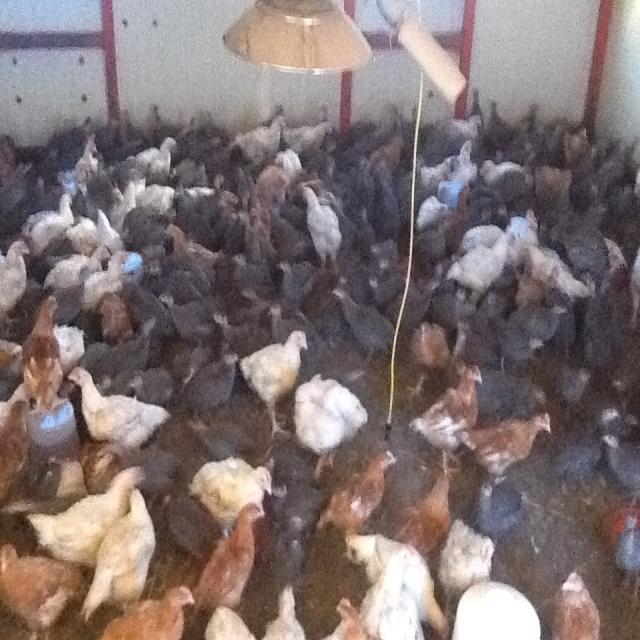poussin: (341, 523, 458, 633), (31, 467, 151, 567), (68, 364, 172, 459), (234, 320, 314, 440), (410, 362, 482, 475), (464, 408, 562, 491), (197, 504, 266, 616), (92, 490, 156, 610), (292, 374, 364, 479), (435, 501, 498, 616), (478, 353, 554, 447), (322, 446, 396, 541), (17, 288, 65, 430), (0, 546, 79, 629), (82, 317, 165, 395), (190, 457, 273, 531), (323, 284, 394, 368), (566, 404, 620, 499), (102, 581, 188, 640), (358, 560, 421, 640), (116, 440, 184, 514), (154, 285, 228, 353), (524, 242, 590, 318), (549, 559, 610, 640), (177, 347, 241, 424), (446, 232, 512, 304), (398, 476, 452, 562), (577, 279, 620, 386), (574, 146, 640, 214), (38, 246, 117, 302), (212, 132, 268, 210), (406, 311, 454, 401), (76, 244, 136, 314), (499, 200, 546, 288), (484, 310, 544, 378), (212, 292, 268, 364), (2, 388, 36, 506), (556, 214, 606, 292), (279, 142, 337, 208), (306, 181, 352, 263), (163, 214, 220, 280), (380, 272, 440, 334), (366, 174, 409, 260), (270, 246, 318, 323), (70, 200, 126, 266), (282, 110, 340, 172), (516, 285, 564, 358), (225, 242, 274, 313), (36, 125, 93, 185), (478, 477, 527, 545), (228, 114, 297, 162), (252, 151, 298, 219), (2, 228, 32, 331), (409, 134, 457, 196), (21, 190, 74, 246), (272, 513, 308, 595), (126, 283, 180, 336), (128, 208, 166, 282), (261, 204, 307, 265), (431, 282, 476, 344), (96, 290, 141, 352), (534, 162, 577, 226), (602, 424, 640, 496), (284, 485, 328, 547), (202, 187, 252, 240), (444, 141, 480, 212), (52, 313, 90, 379), (263, 583, 306, 640), (460, 214, 508, 264), (199, 602, 259, 640), (186, 107, 218, 177), (145, 98, 179, 162), (482, 141, 524, 191), (137, 174, 179, 222), (81, 448, 118, 502), (375, 133, 411, 186), (404, 182, 442, 232), (130, 136, 180, 173), (558, 356, 592, 410), (328, 599, 372, 640), (72, 136, 108, 185), (343, 163, 376, 216), (556, 123, 599, 163), (371, 239, 402, 293), (104, 178, 138, 225), (504, 106, 547, 142), (444, 110, 488, 145), (617, 512, 640, 578), (2, 126, 27, 186), (481, 102, 513, 146), (364, 262, 392, 312), (344, 121, 372, 168), (2, 328, 30, 373), (459, 181, 508, 206), (627, 235, 640, 325), (104, 112, 132, 148), (370, 225, 400, 256)
